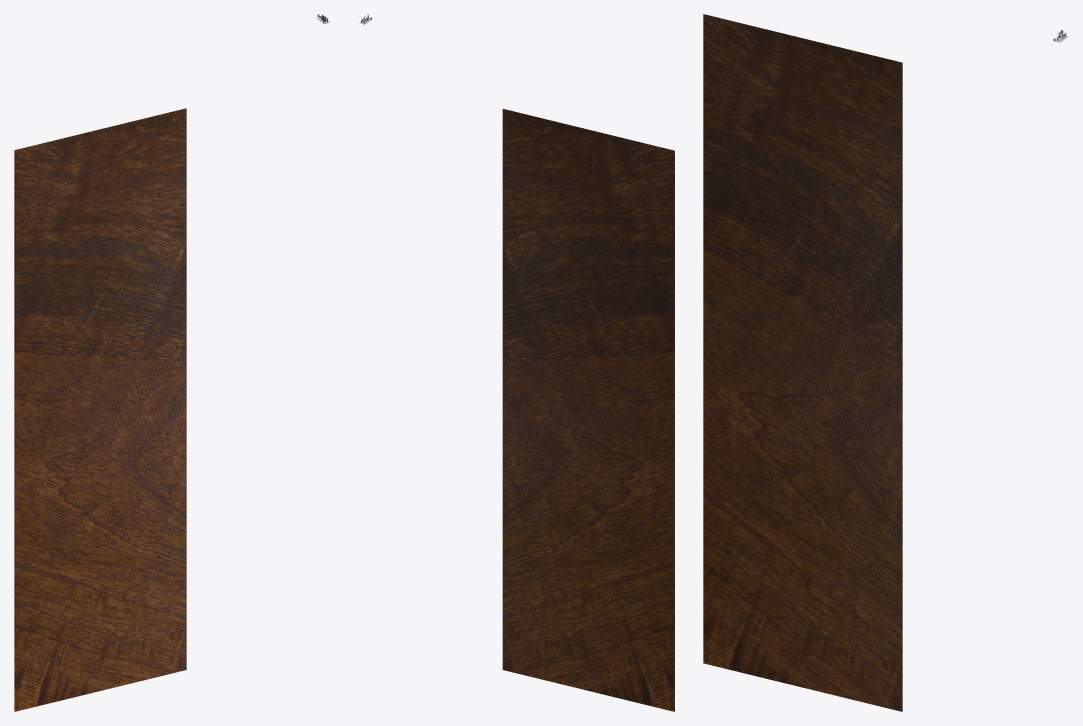
The model's file is stallA2notext.obj.
3 views of the same model, side by side, from view 1: azimuth 30°, elevation 25°; view 2: azimuth 150°, elevation 25°; view 3: azimuth 330°, elevation 25° (orthographic). The views are drawn at different scales.
Parts seen in each view (by area): view 1: Cap_1_87_Untitled.551; view 2: Cap_1_87_Untitled.551; view 3: Cap_1_87_Untitled.551.
Part boxes in pixels (x1=…): Cap_1_87_Untitled.551: x1=14, y1=108, x2=186, y2=711; Cap_1_87_Untitled.551: x1=502, y1=109, x2=674, y2=711; Cap_1_87_Untitled.551: x1=703, y1=14, x2=902, y2=711.
Size of the model in its own units: 303 by 574 by 12.
Materials: 15 (6 with a texture image).
